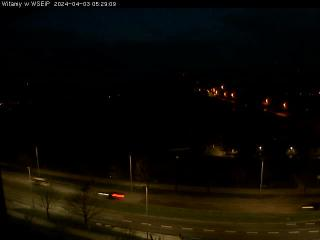car: (96, 189, 125, 200), (29, 174, 51, 188), (299, 200, 320, 210)
